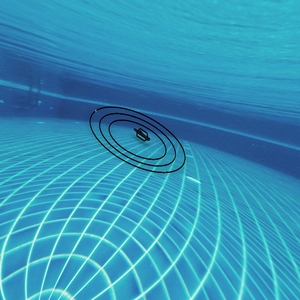submarine: (135, 125, 148, 142)
